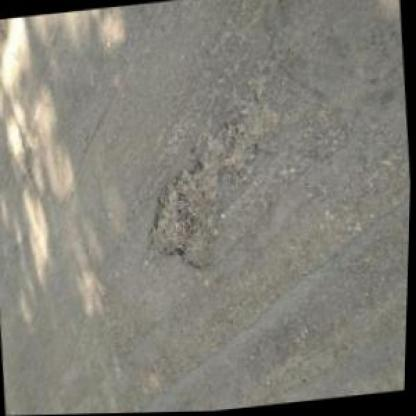pothole: (140, 154, 236, 273), (218, 84, 283, 179), (20, 129, 42, 175)
